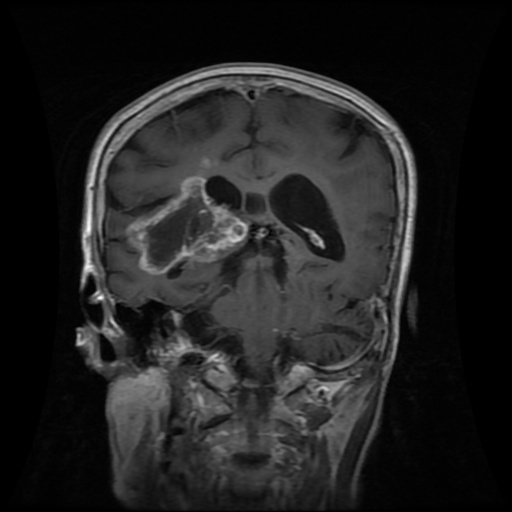glioma: (125, 175, 246, 275)
